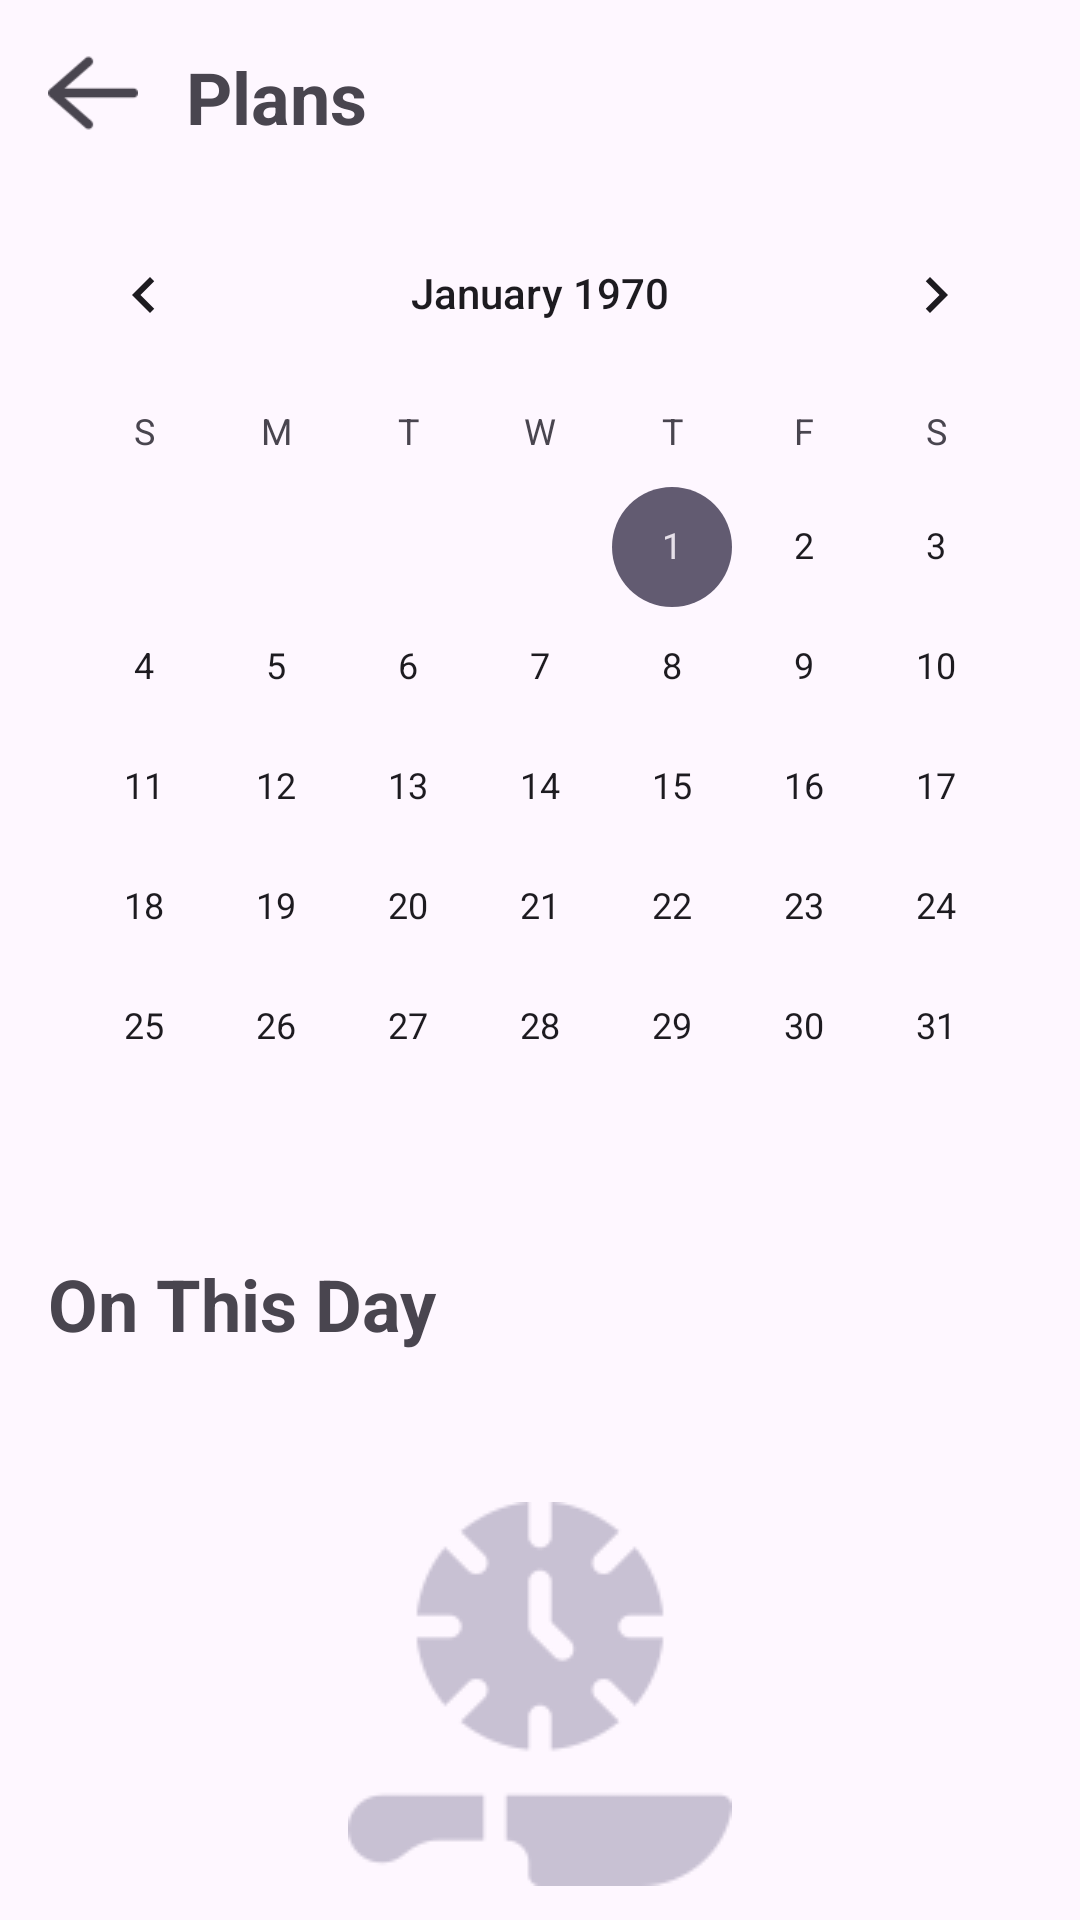

Screen size 1080w x 1920h. Icon name, then its center in pixels as (x=x, y=y):
left arrow: (x=93, y=93)
